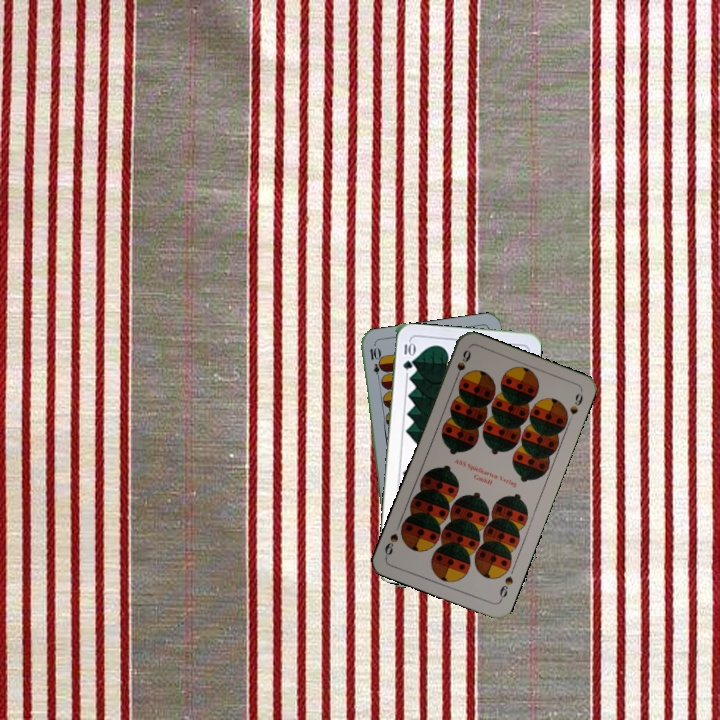E10: (366, 343, 384, 384)
G10: (399, 338, 416, 372)
S9: (450, 346, 473, 384), (495, 572, 516, 604)
